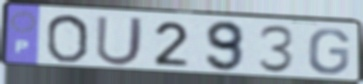2: (152, 20, 192, 68)
3: (257, 24, 296, 75)
9: (203, 19, 246, 74)
G: (306, 27, 352, 77)
O: (44, 13, 91, 64)
U: (94, 14, 146, 68)
